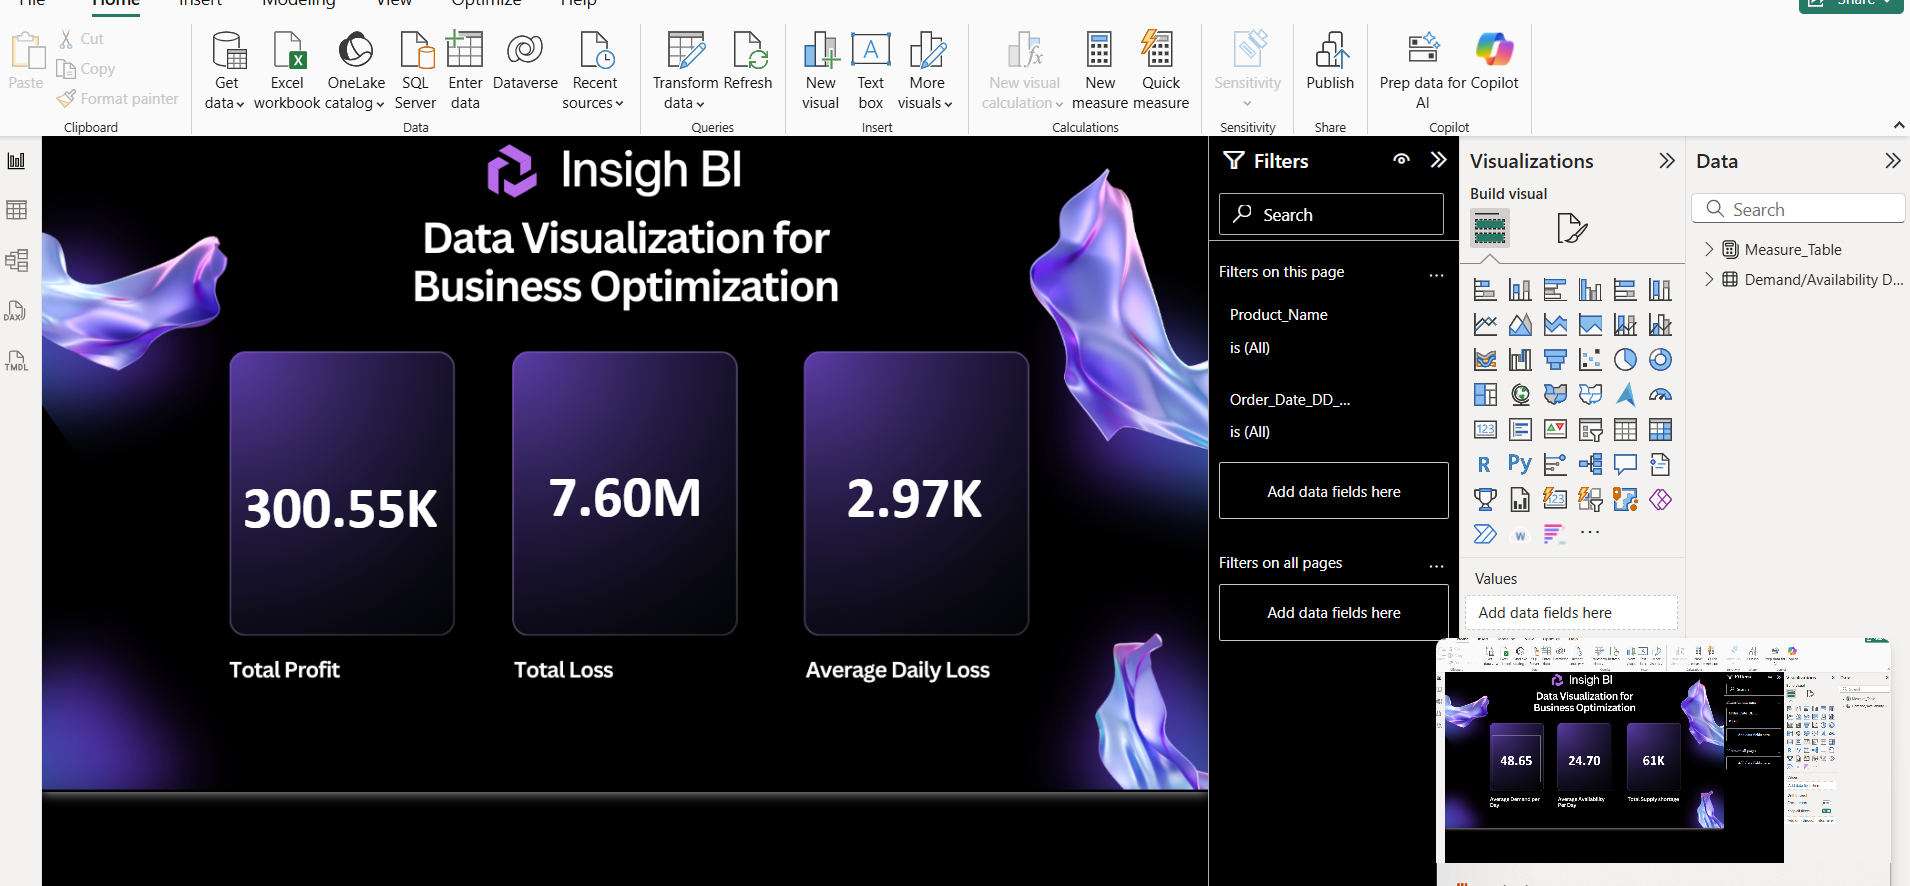

What the dashboard file says about the page in this screenshot:
{"tool":"powerbi","page":{"name":"KPI-2","canvas":[1280,720],"ordinal":1},"visuals":[{"type":"card","fields":{"Values":["Measure_Table.Total Profit"]},"box":[215.1,293,224.4,215.1],"z":0},{"type":"card","fields":{"Values":["Measure_Table.Total Loss"]},"box":[527.7,281.1,224.9,215.9],"z":1000},{"type":"card","fields":{"Values":["Measure_Table.Average loss per day"]},"box":[845.8,282.4,224.9,215.9],"z":2000}]}

Visuals, with their boxes on the page's 1280x720 design canvas (x1, y1, x2, y2). These are canvas units, not pixel positions in the 1910x886 screenshot, which may show the page scaled, cropped or inside an application window:
card - Measure_Table.Total Profit: region(215, 293, 440, 508)
card - Measure_Table.Total Loss: region(528, 281, 753, 497)
card - Measure_Table.Average loss per day: region(846, 282, 1071, 498)
